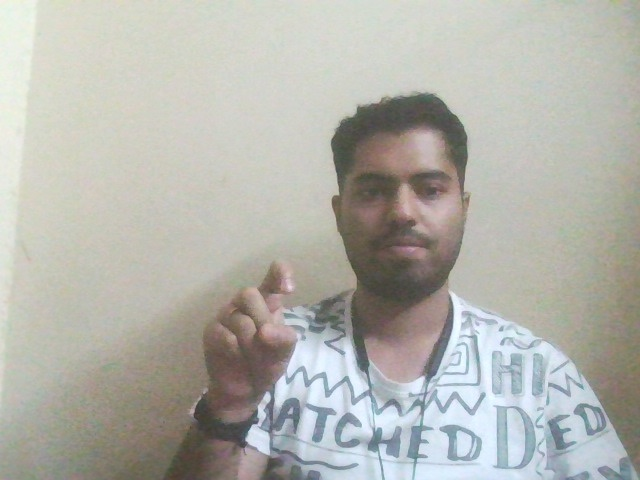No: (144, 243, 337, 414)
